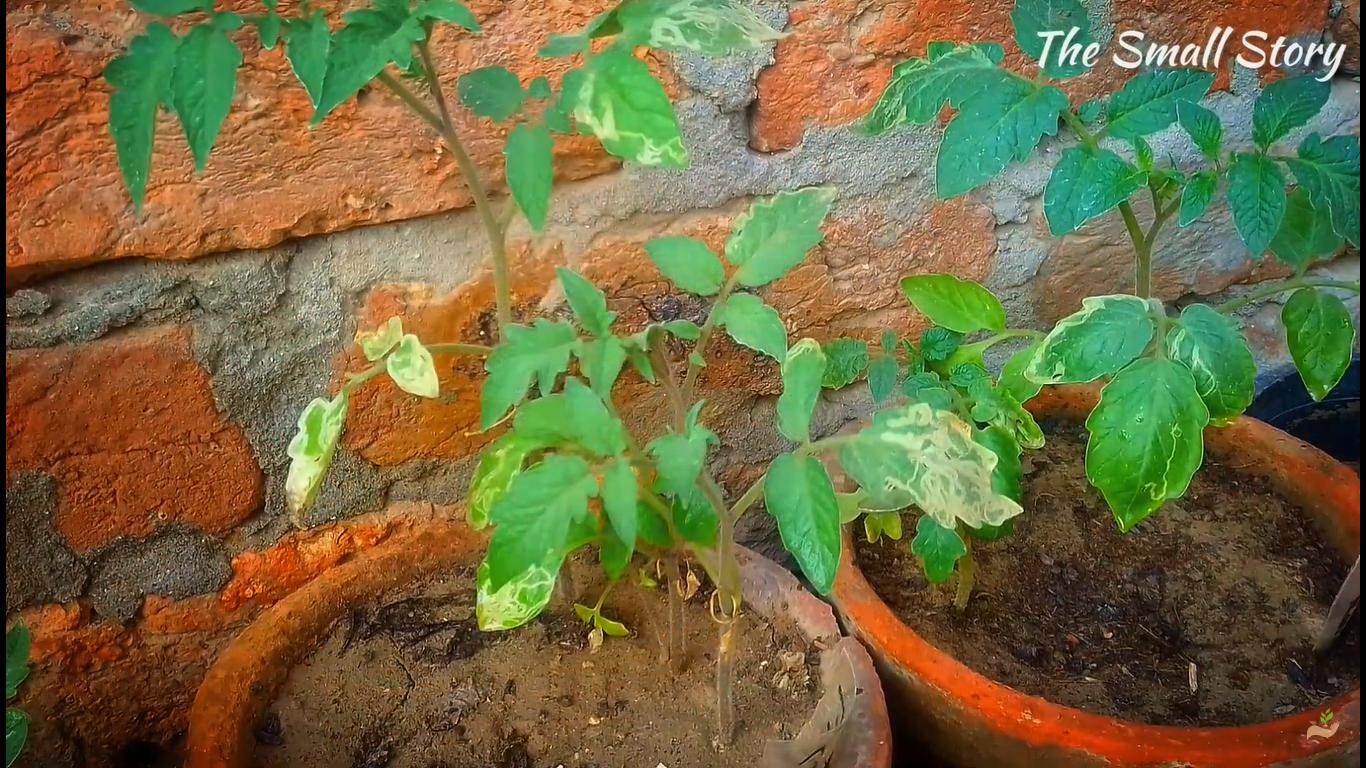Healthy: (934, 75, 1070, 201), (488, 453, 600, 594), (101, 18, 181, 214), (308, 0, 428, 130), (169, 11, 245, 176), (480, 312, 579, 432), (764, 450, 842, 598), (1104, 67, 1219, 141), (896, 272, 1007, 334), (1226, 150, 1288, 258), (503, 124, 556, 233), (563, 373, 630, 459), (711, 291, 789, 362), (642, 237, 726, 296), (557, 264, 619, 337), (911, 512, 967, 586), (600, 456, 642, 553)
Leaf_Miner: (839, 400, 1025, 531), (1084, 356, 1211, 534), (847, 38, 1006, 139), (573, 42, 689, 168), (1021, 290, 1154, 385), (724, 182, 836, 289), (1165, 301, 1259, 428), (617, 0, 795, 58), (281, 394, 346, 533), (466, 432, 549, 528), (475, 555, 566, 634), (776, 338, 828, 440), (383, 331, 441, 403)
